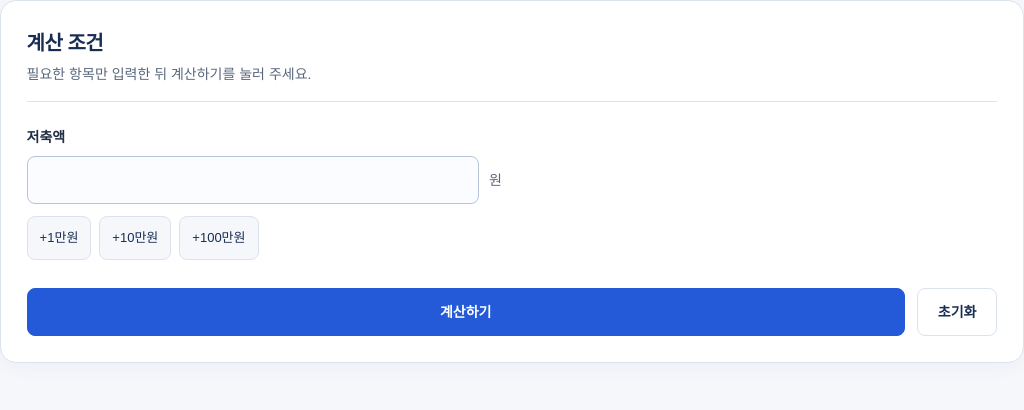
Test: adds money to an empty field, invalidates the previous result, and restores its default on reset
Click the button with aria-label "저축액 1만원 더하기". click: (59, 238)
box: [27,216,91,260]
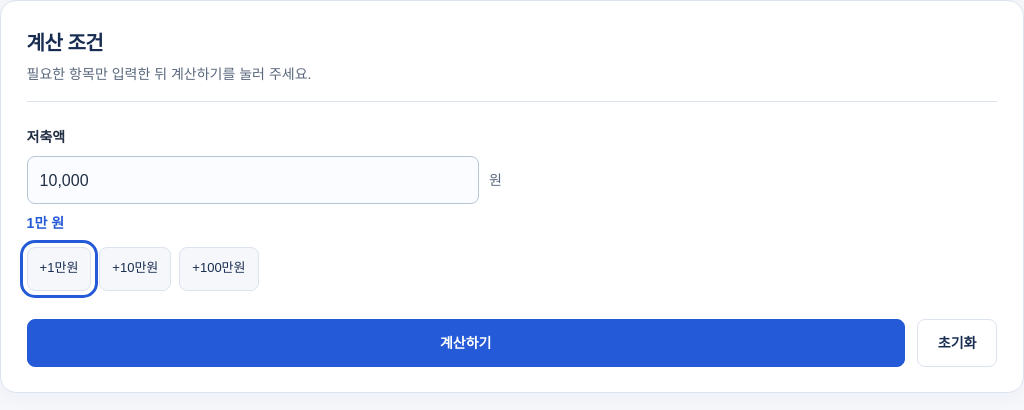
expect the field holds "10,000": met, box [27,156,479,204]
Click the button "초기화". click: (957, 343)
box: [917,319,997,367]
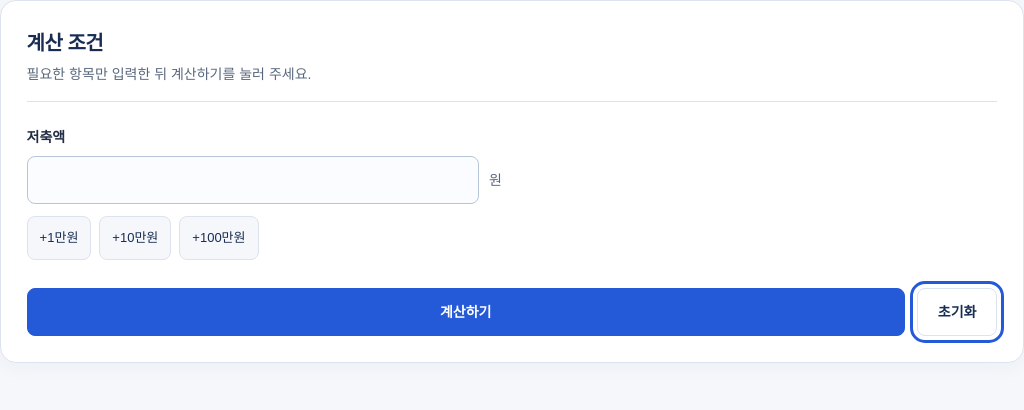
expect the field is empty: met, box [27,156,479,204]
